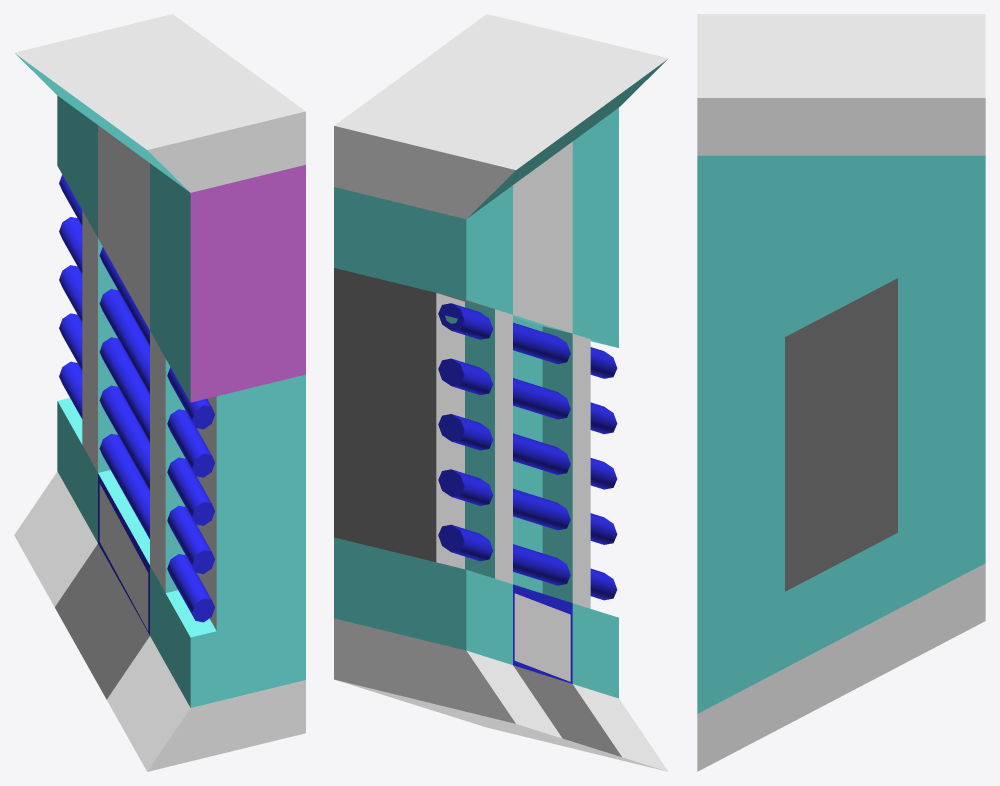
The model's file is WallBaseAngledMid.fbx.
3 views of the same model, side by side, from view 1: azimuth 30°, elevation 25°; view 2: azimuth 150°, elevation 25°; view 3: azimuth 270°, elevation 25° (orthographic). The views are drawn at different scales.
Visible parts, largest first — view 1: BaseAngledMid; view 2: BaseAngledMid; view 3: BaseAngledMid.
Part boxes in pixels (left/top/right/bottom): BaseAngledMid: left=14, top=14, right=305, bottom=771; BaseAngledMid: left=334, top=14, right=668, bottom=771; BaseAngledMid: left=697, top=14, right=985, bottom=771.
Bounding box in the file's own units: 54.17 × 203 × 78.74.
